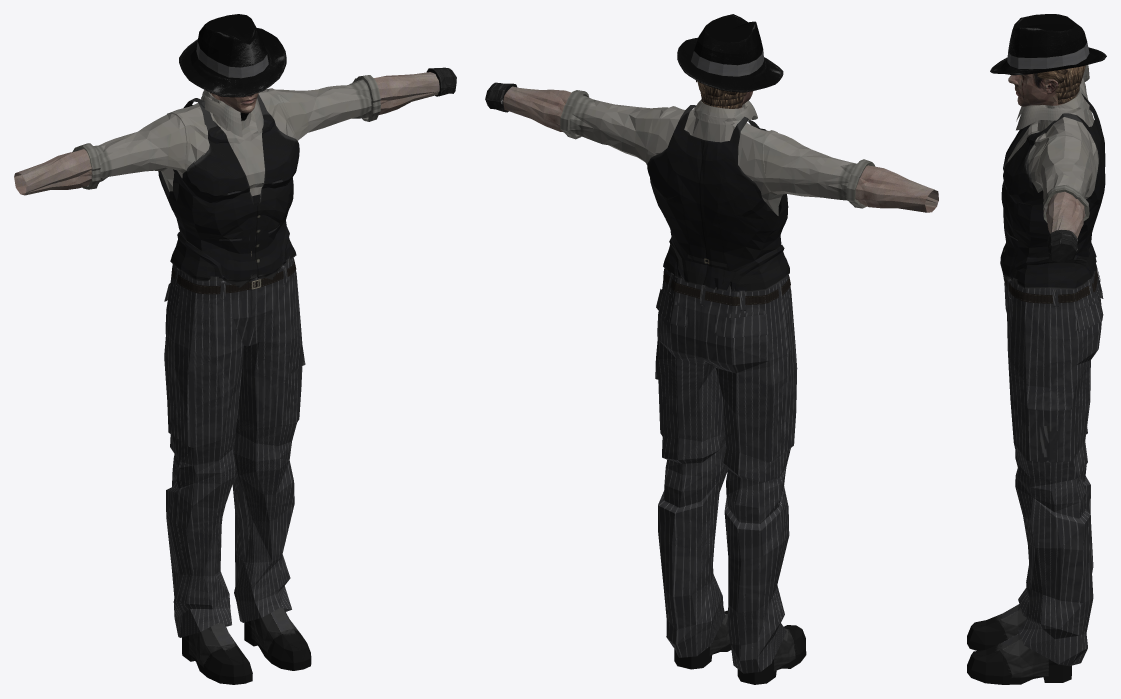
Rendered from leon_mafia.glb.
3 views of the same model, side by side, from view 1: azimuth 30°, elevation 25°; view 2: azimuth 150°, elevation 25°; view 3: azimuth 270°, elevation 25° (orthographic). The views are drawn at different scales.
Parts seen in each view (by area): view 1: 000MATERIAL_001, 000MATERIAL_008, 000MATERIAL_000, 005MATERIAL_000, 000MATERIAL_003, 000MATERIAL_006, 000MATERIAL_002; view 2: 000MATERIAL_001, 000MATERIAL_008, 000MATERIAL_000, 005MATERIAL_000, 000MATERIAL_003, 000MATERIAL_006, 000MATERIAL_002; view 3: 000MATERIAL_001, 000MATERIAL_008, 000MATERIAL_000, 000MATERIAL_003, 005MATERIAL_000, 000MATERIAL_002, 004MATERIAL_000, 005MATERIAL_004, 002MATERIAL_000, 005MATERIAL_006.
Boxes of the visible parts, box(x1,y1,x2,y2) form: 000MATERIAL_001: box(164, 256, 305, 637); 000MATERIAL_008: box(158, 94, 299, 294); 000MATERIAL_000: box(72, 75, 380, 198); 005MATERIAL_000: box(179, 14, 286, 97); 000MATERIAL_003: box(182, 67, 456, 684); 000MATERIAL_006: box(14, 149, 91, 195); 000MATERIAL_002: box(374, 72, 439, 114); 000MATERIAL_001: box(655, 268, 797, 673); 000MATERIAL_008: box(647, 105, 790, 305); 000MATERIAL_000: box(560, 90, 875, 215); 005MATERIAL_000: box(677, 14, 783, 92); 000MATERIAL_003: box(485, 82, 806, 684); 000MATERIAL_006: box(855, 165, 938, 212); 000MATERIAL_002: box(503, 86, 571, 132); 000MATERIAL_001: box(1004, 263, 1103, 666); 000MATERIAL_008: box(1000, 93, 1105, 303); 000MATERIAL_000: box(1007, 65, 1098, 222); 000MATERIAL_003: box(967, 230, 1077, 684); 005MATERIAL_000: box(990, 14, 1106, 75); 000MATERIAL_002: box(1046, 191, 1085, 238); 004MATERIAL_000: box(1008, 73, 1048, 106); 005MATERIAL_004: box(1052, 65, 1085, 88); 002MATERIAL_000: box(1034, 73, 1063, 105); 005MATERIAL_006: box(1021, 69, 1067, 83).
Size of the model in its own units: 13.39 by 18.62 by 3.69.
11 materials, 11 textured.
